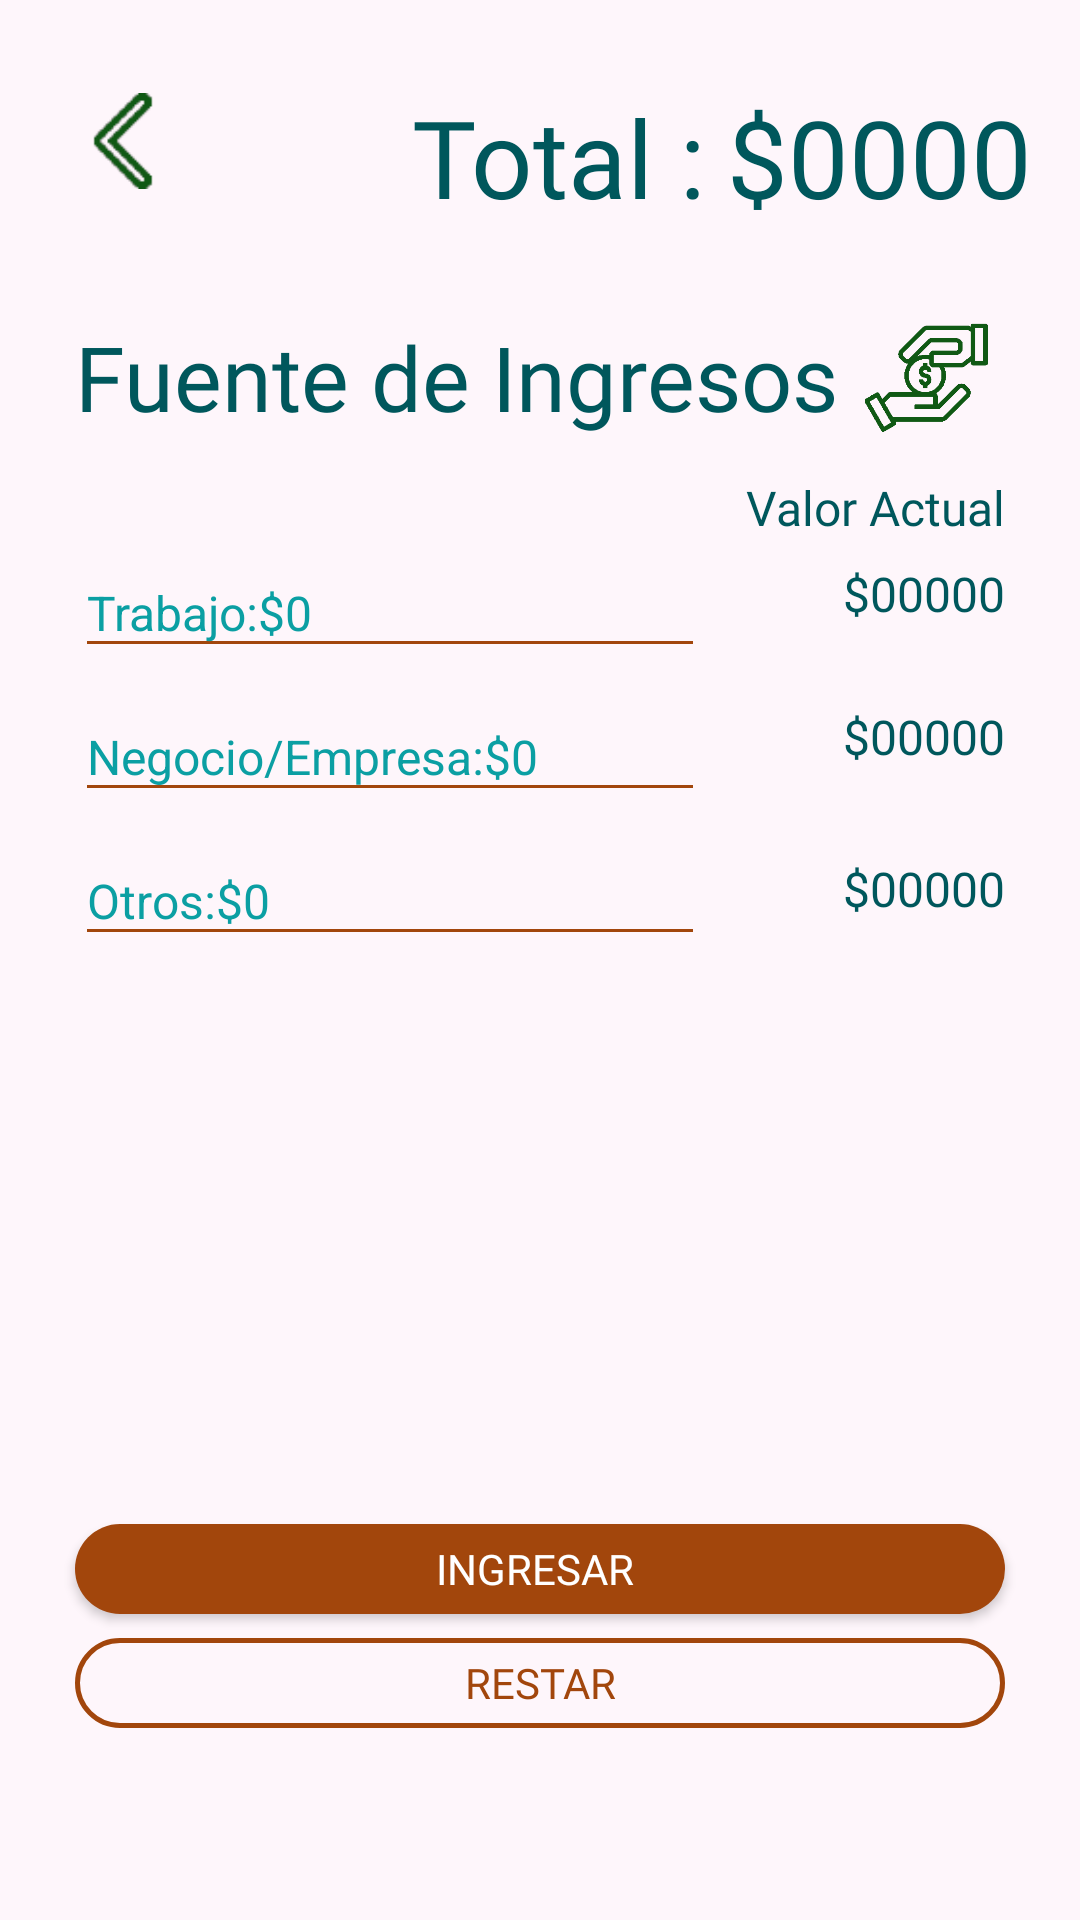

Locate icon controls on the screen. Image size 1080*1920, boxes as (x1, y1, x2, y2).
afingresos: (865, 323, 988, 432)
flecha: (93, 93, 153, 189)
